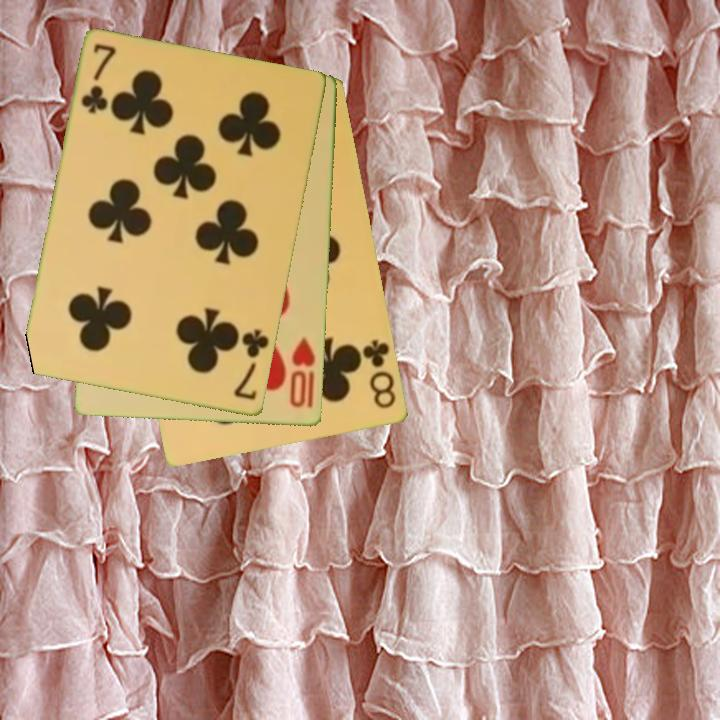10h: (286, 334, 319, 411)
7c: (230, 326, 272, 404), (78, 41, 120, 117)
8c: (359, 336, 399, 412)
